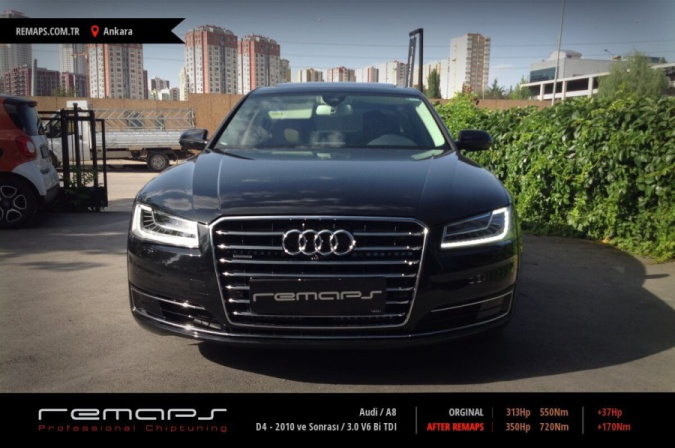audi: (275, 223, 364, 263)
